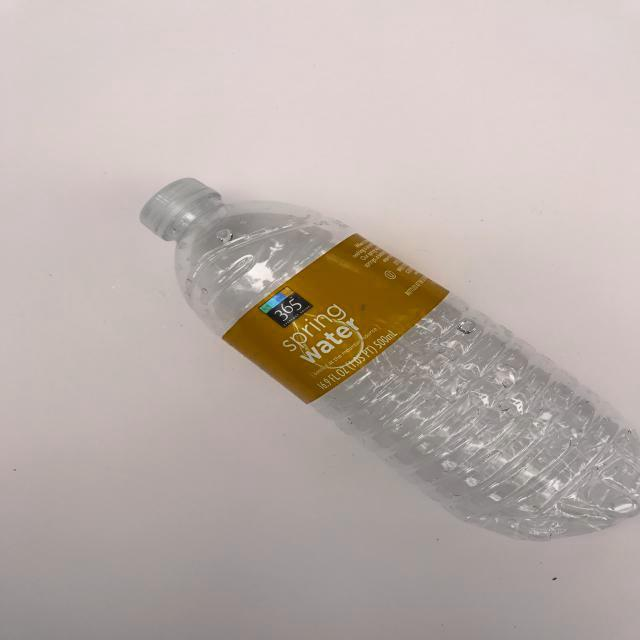plastic: (113, 163, 640, 552)
